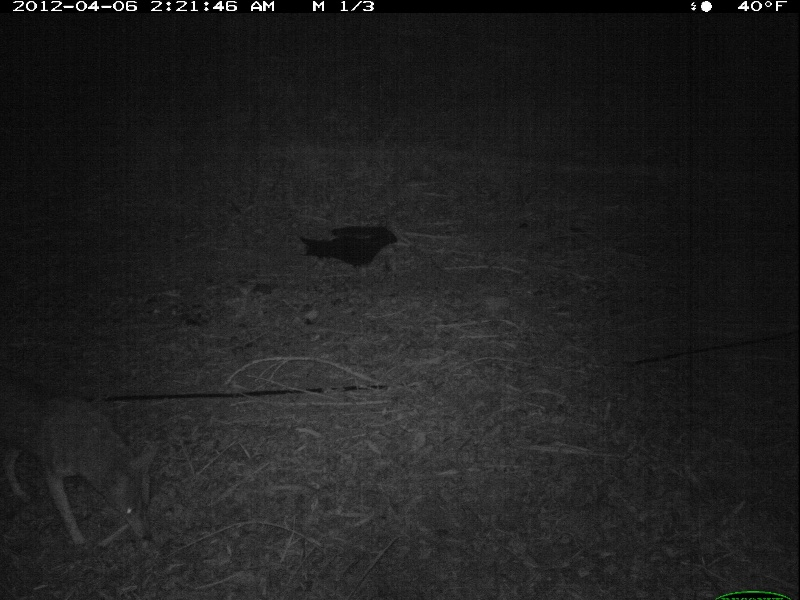coyote: (1, 386, 164, 558)
